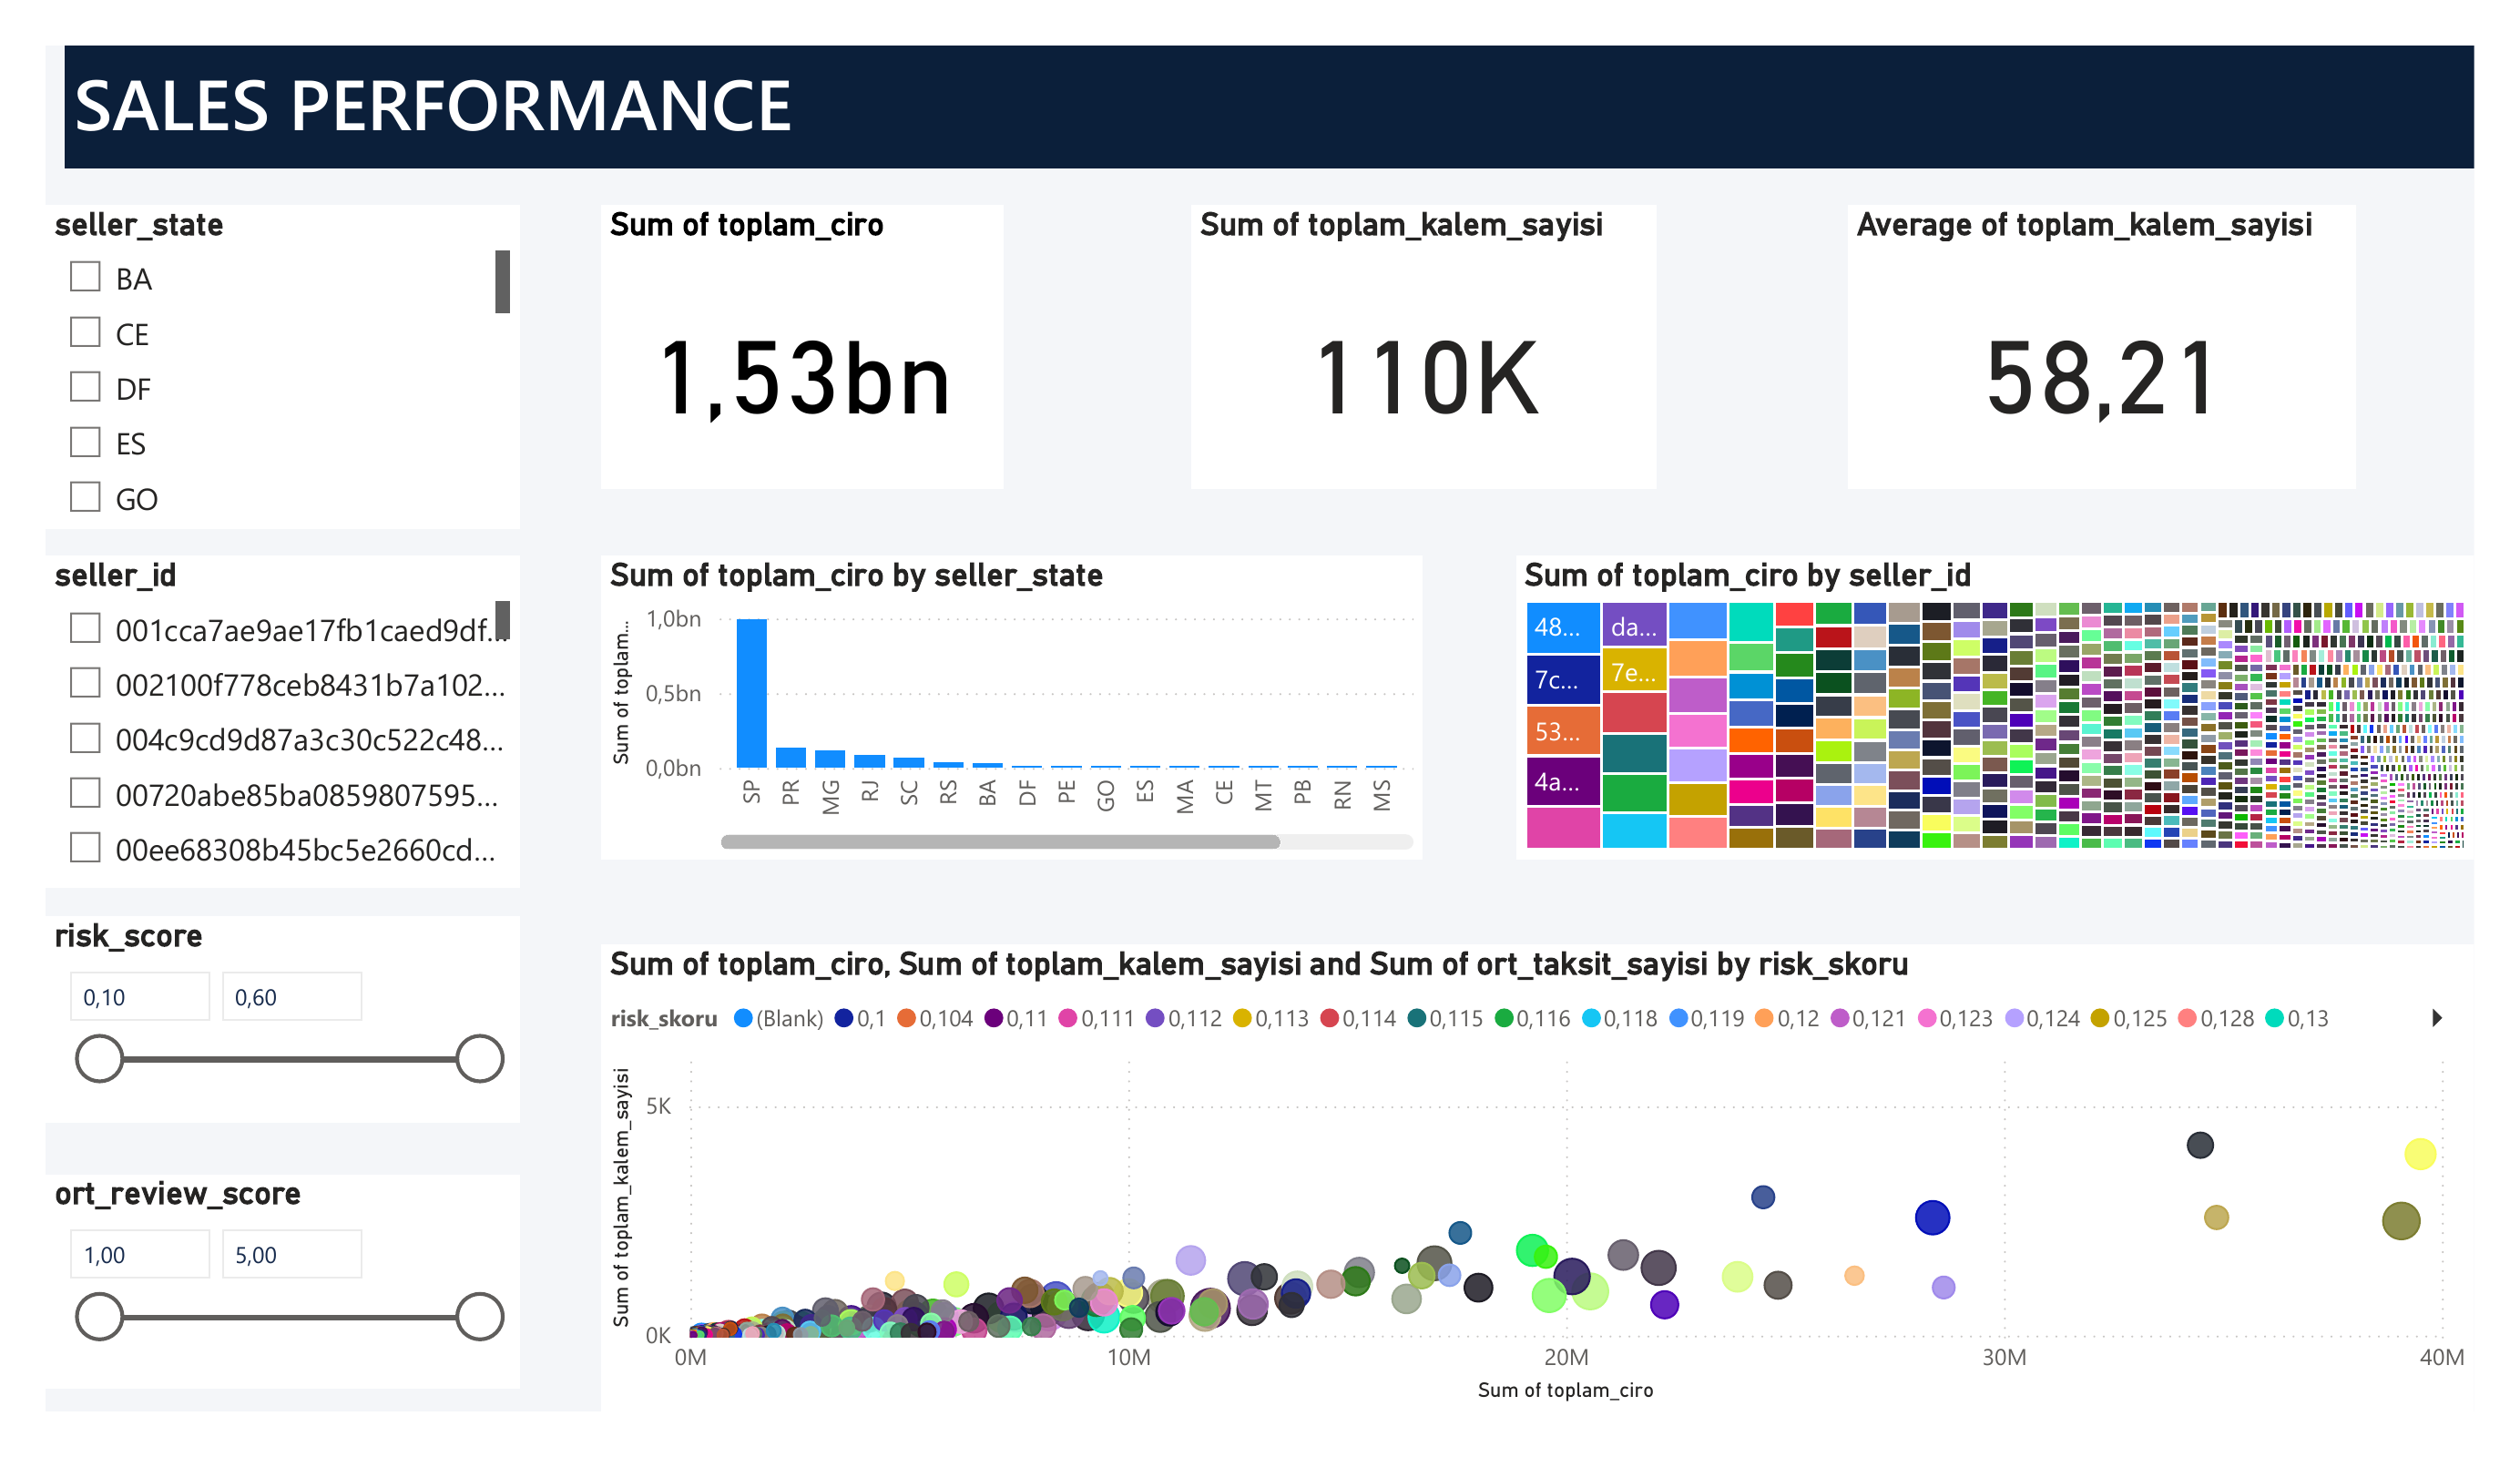

The page's visual inventory and layout, read from the dashboard file:
{"tool":"powerbi","page":{"name":"Sales Performance","canvas":[1280,720],"ordinal":1},"visuals":[{"type":"textbox","box":[10,0,1270,65],"z":0},{"type":"card","title":"Sum of toplam_ciro","fields":{"Values":["Sum(Query1.toplam_ciro)"]},"box":[292.5,83.8,212.5,150],"z":1000},{"type":"card","title":"Sum of toplam_kalem_sayisi","fields":{"Values":["Sum(Query1.toplam_kalem_sayisi)"]},"box":[603.8,83.8,245,150],"z":2000},{"type":"card","title":"Average of toplam_kalem_sayisi","fields":{"Values":["Avg(Query1.toplam_kalem_sayisi)"]},"box":[950,83.8,267.5,150],"z":3000},{"type":"treemap","fields":{"Group":["Query1.seller_id"],"Values":["Sum(Query1.toplam_ciro)"]},"box":[775,268.8,505,160],"z":4000},{"type":"clusteredColumnChart","fields":{"Category":["Query1.seller_state"],"Y":["Sum(Query1.toplam_ciro)"]},"box":[292.5,268.8,433.8,160],"z":5000},{"type":"scatterChart","fields":{"X":["Sum(Query1.toplam_ciro)"],"Y":["Sum(Query1.toplam_kalem_sayisi)"],"Size":["Sum(Query1.ort_taksit_sayisi)"],"Series":["Query1.risk_skoru"]},"box":[292.5,473.8,987.5,246.2],"z":6000},{"type":"slicer","title":"seller_state","fields":{"Values":["Query1.seller_state"]},"box":[0,83.8,250,171.2],"z":7000},{"type":"slicer","title":"seller_id","fields":{"Values":["Query1.seller_id"]},"box":[0,268.8,250,175],"z":8000},{"type":"slicer","title":"risk_score","fields":{"Values":["Query1.risk_skoru"]},"box":[0,458.8,250,108.8],"z":9000},{"type":"slicer","title":"ort_review_score","fields":{"Values":["Query1.ort_review_score"]},"box":[0,595,250,112.5],"z":10000}]}

Visuals, with their boxes on the page's 1280x720 design canvas (x1, y1, x2, y2). These are canvas units, not pixel positions in the 2520x1457 screenshot, which may show the page scaled, cropped or inside an application window:
textbox: <region>10, 0, 1280, 65</region>
"Sum of toplam_ciro" card: <region>292, 84, 505, 234</region>
"Sum of toplam_kalem_sayisi" card: <region>604, 84, 849, 234</region>
"Average of toplam_kalem_sayisi" card: <region>950, 84, 1218, 234</region>
treemap - Query1.seller_id x Sum(Query1.toplam_ciro): <region>775, 269, 1280, 429</region>
clusteredColumnChart - Query1.seller_state x Sum(Query1.toplam_ciro): <region>292, 269, 726, 429</region>
scatterChart - Sum(Query1.toplam_ciro) x Sum(Query1.toplam_kalem_sayisi): <region>292, 474, 1280, 720</region>
"seller_state" slicer: <region>0, 84, 250, 255</region>
"seller_id" slicer: <region>0, 269, 250, 444</region>
"risk_score" slicer: <region>0, 459, 250, 568</region>
"ort_review_score" slicer: <region>0, 595, 250, 708</region>
